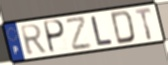D: (110, 10, 137, 46)
L: (90, 15, 114, 48)
P: (43, 19, 67, 55)
R: (18, 23, 48, 57)
T: (133, 6, 153, 42)
Z: (64, 15, 94, 52)
